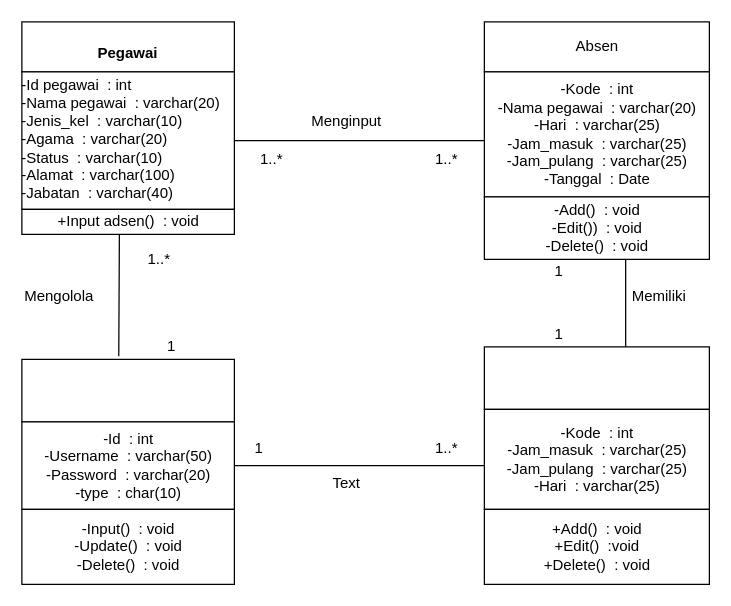
Image size: 731x606. Some labels were removed from this diagram. The shapes that lost their labels are listed below. From the top down, each one's centre as x and y in pixels, then its label:
At [127,390]: "Admin".
At [596,377]: "Jadwal".
